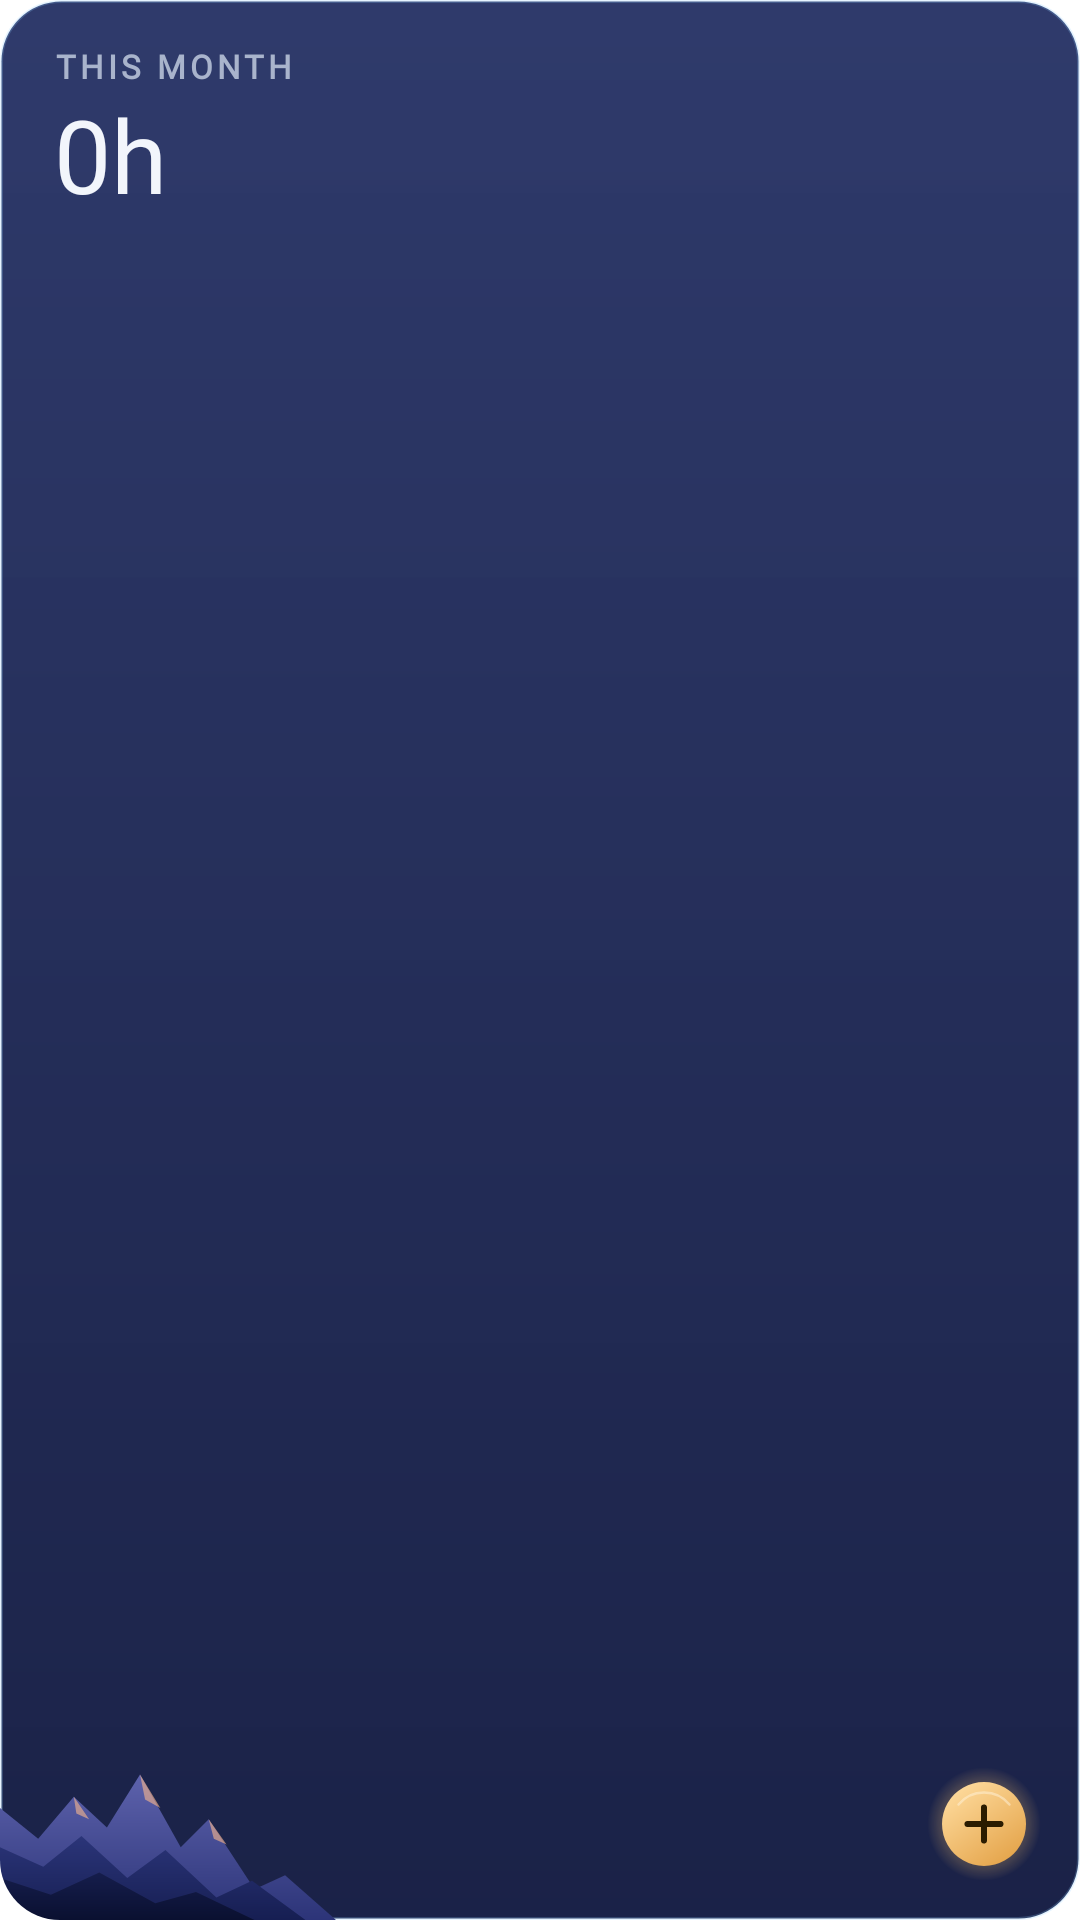

Locate icon controls on the screen. Image size 1080px×1920px, boxes as BBox(x1, y1, x2, y2).
Add lesson: BBox(935, 1774, 1033, 1873)
widget ridges: BBox(0, 1752, 336, 1920)
